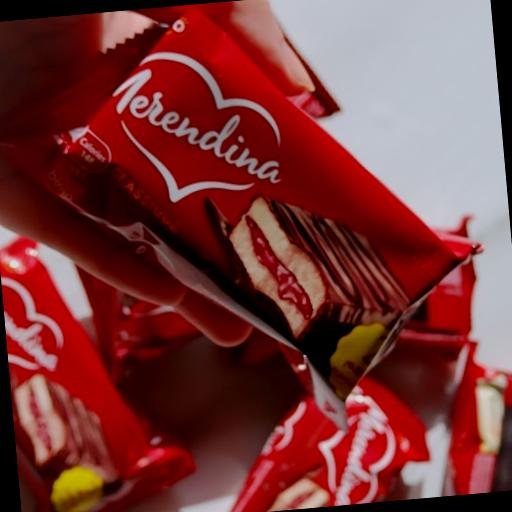merendina: (89, 0, 496, 390), (0, 212, 147, 512), (255, 367, 434, 512)
